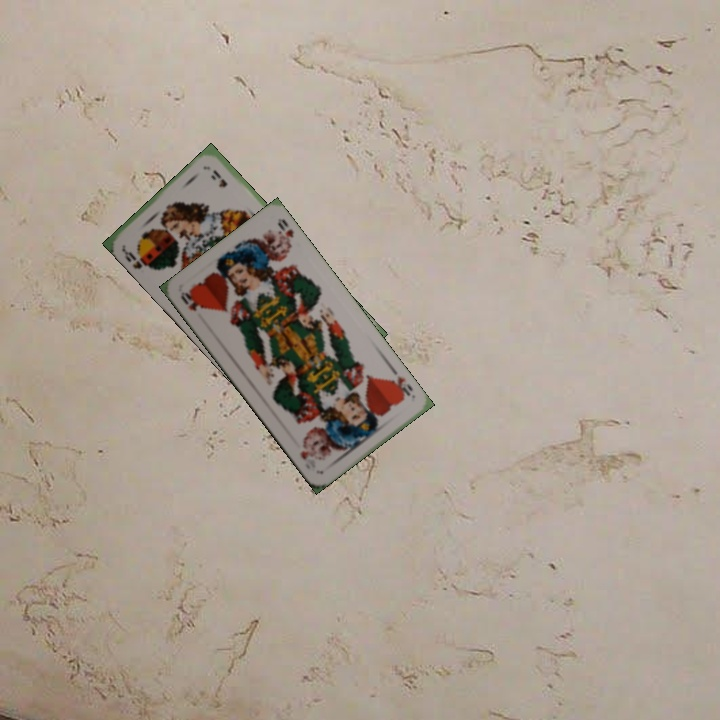HO: (385, 371, 416, 401), (177, 287, 204, 313)
SO: (118, 242, 155, 272)
